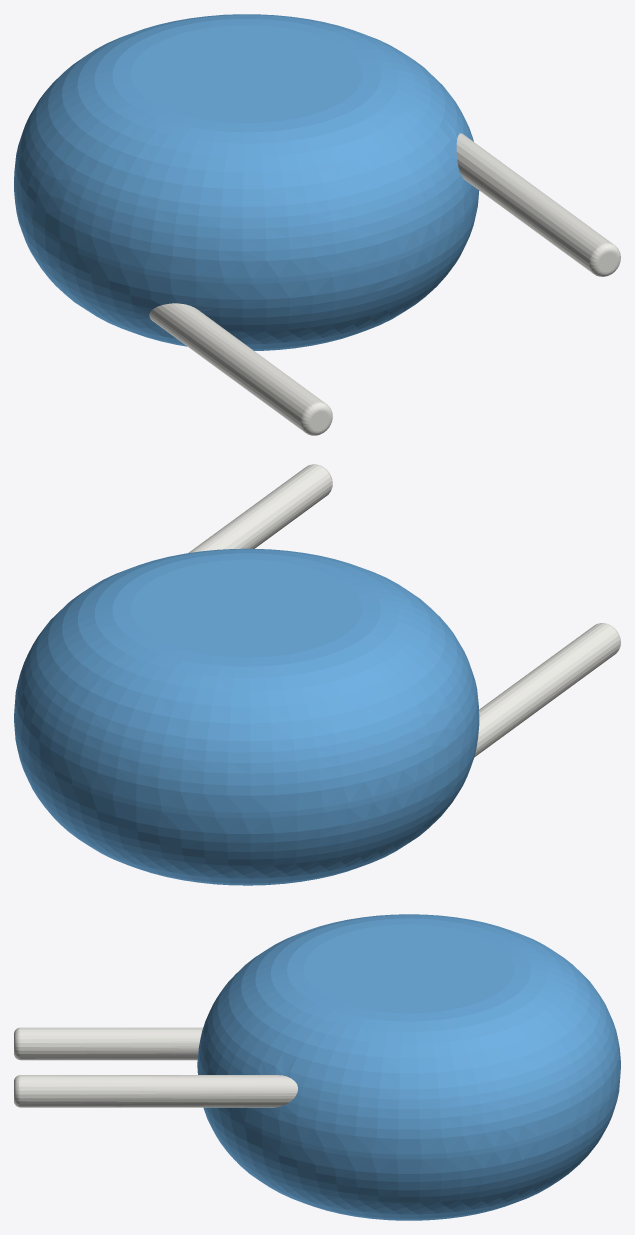
File: RV_Disc_D7mm_W3.6mm_P5mm.glb
3 renders of one model, top to bottom at view 1: azimuth 30°, elevation 25°; view 2: azimuth 150°, elevation 25°; view 3: azimuth 270°, elevation 25°, orthographic. The views are drawn at different scales.
Visible parts, largest first — view 1: Shape_IndexedFaceSet.001, Shape_IndexedFaceSet.002, Shape_IndexedFaceSet.003, Shape_IndexedFaceSet.006, Shape_IndexedFaceSet.004, Shape_IndexedFaceSet, Shape_IndexedFaceSet.008, Shape_IndexedFaceSet.007; view 2: Shape_IndexedFaceSet.001, Shape_IndexedFaceSet.002, Shape_IndexedFaceSet.003, Shape_IndexedFaceSet.006, Shape_IndexedFaceSet.004, Shape_IndexedFaceSet; view 3: Shape_IndexedFaceSet.001, Shape_IndexedFaceSet.002, Shape_IndexedFaceSet.003, Shape_IndexedFaceSet.004, Shape_IndexedFaceSet.006, Shape_IndexedFaceSet.
Part boxes in pixels (<box>): Shape_IndexedFaceSet.001: <box>14,14,477,278</box>; Shape_IndexedFaceSet.002: <box>14,190,479,350</box>; Shape_IndexedFaceSet.003: <box>130,25,362,123</box>; Shape_IndexedFaceSet.006: <box>149,303,324,431</box>; Shape_IndexedFaceSet.004: <box>456,133,613,272</box>; Shape_IndexedFaceSet: <box>14,186,478,283</box>; Shape_IndexedFaceSet.008: <box>300,402,332,435</box>; Shape_IndexedFaceSet.007: <box>589,243,620,276</box>; Shape_IndexedFaceSet.001: <box>14,548,479,812</box>; Shape_IndexedFaceSet.002: <box>14,722,479,885</box>; Shape_IndexedFaceSet.003: <box>130,559,362,657</box>; Shape_IndexedFaceSet.006: <box>474,623,619,757</box>; Shape_IndexedFaceSet.004: <box>188,464,331,552</box>; Shape_IndexedFaceSet: <box>14,716,479,818</box>; Shape_IndexedFaceSet.001: <box>197,914,620,1154</box>; Shape_IndexedFaceSet.002: <box>203,1078,620,1220</box>; Shape_IndexedFaceSet.003: <box>304,924,514,1013</box>; Shape_IndexedFaceSet.004: <box>20,1075,297,1107</box>; Shape_IndexedFaceSet.006: <box>20,1027,202,1060</box>; Shape_IndexedFaceSet: <box>197,1064,620,1159</box>.
Size of the model in its own units: 2.75 by 1.42 by 3.95.
